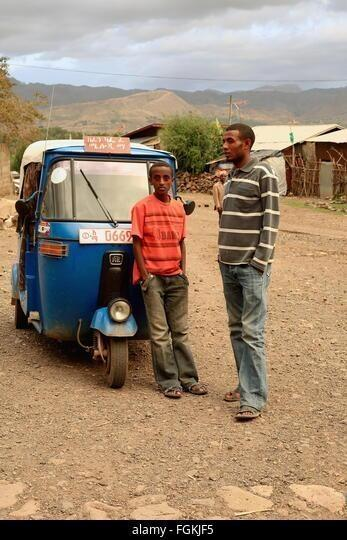keke: (9, 141, 189, 391)
